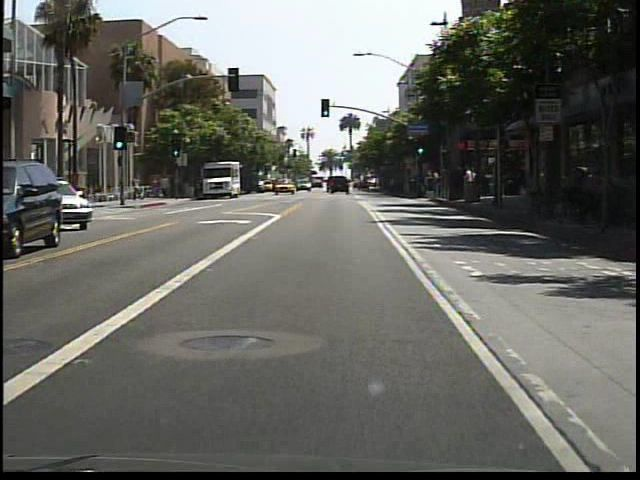person: (132, 171, 145, 204), (160, 173, 174, 201), (151, 176, 164, 199)
